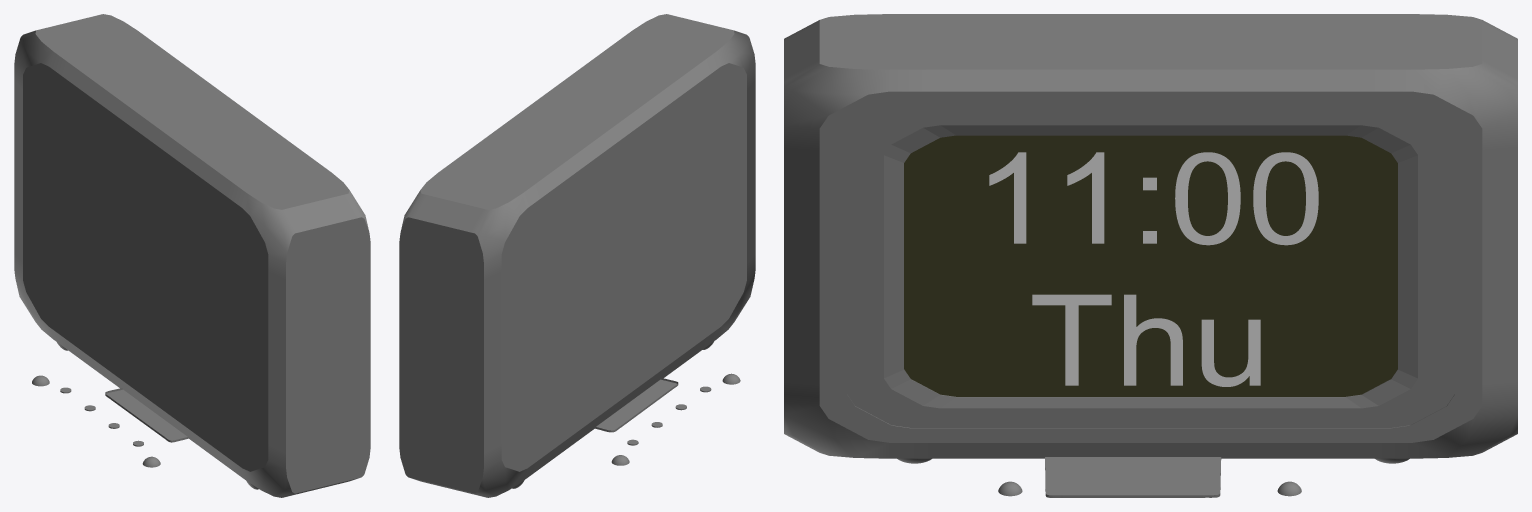
File: clock.fbx
3 views of the same model, side by side, from view 1: azimuth 30°, elevation 25°; view 2: azimuth 150°, elevation 25°; view 3: azimuth 270°, elevation 25° (orthographic). The views are drawn at different scales.
Parts seen in each view (by area): view 1: ChamferBox001; view 2: ChamferBox001; view 3: ChamferBox001, Text001.
Boxes of the visible parts, left/top/right/bottom form: ChamferBox001: left=14, top=14, right=370, bottom=497; ChamferBox001: left=399, top=14, right=755, bottom=497; ChamferBox001: left=784, top=14, right=1517, bottom=497; Text001: left=989, top=152, right=1318, bottom=386.
Bounding box in the file's own units: 6.11 × 8.26 × 13.68.
